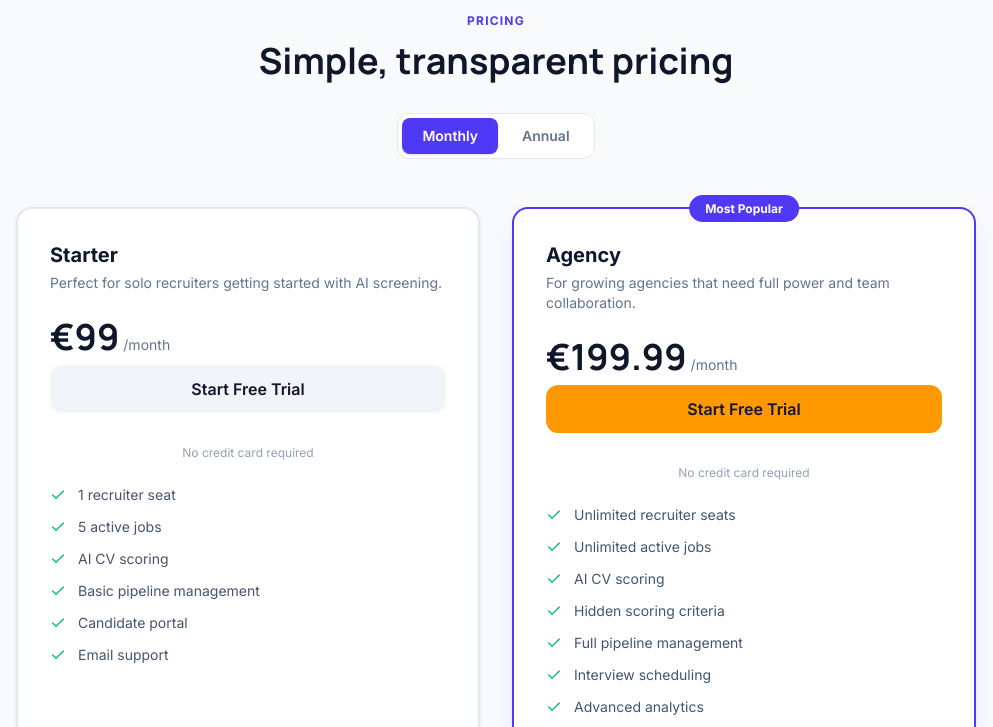
Scenario: Pricing › switches to annual prices when toggled
Click the button "Annual": {"x": 546, "y": 136} [502, 118, 590, 154]
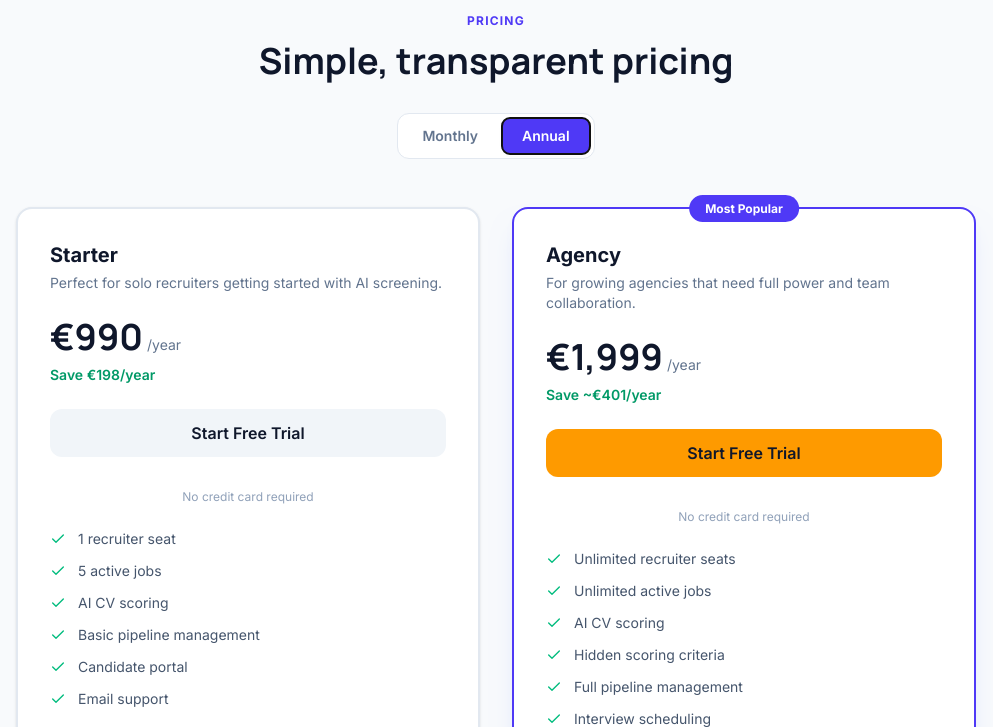
Check: the text "€990" is shown, box [50, 312, 143, 361]
Check: the text "€1,999" is shown, box [546, 332, 663, 381]
